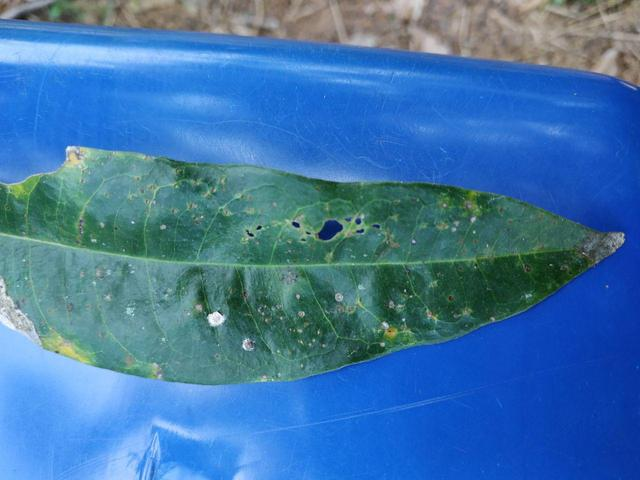blight spot: (230, 204, 408, 254)
